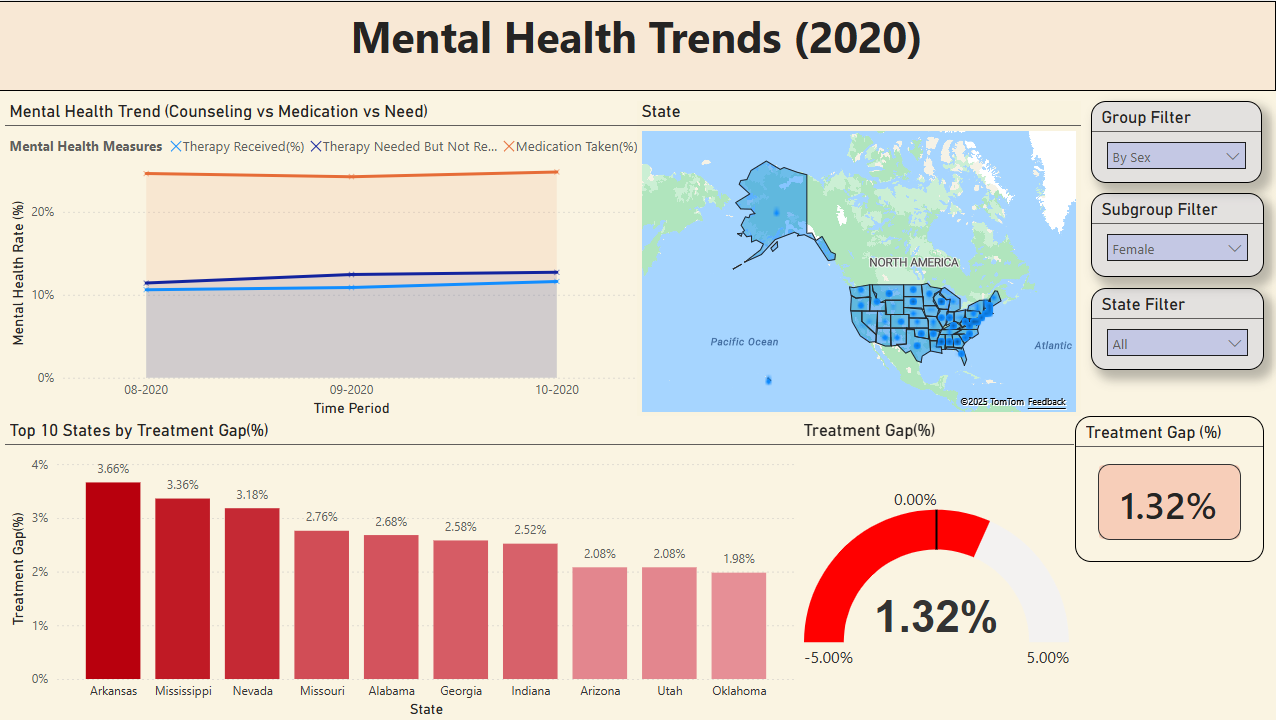

What the dashboard file says about the page in this screenshot:
{"tool":"powerbi","page":{"name":"Page 1","canvas":[1280,720],"ordinal":0},"visuals":[{"type":"lineChart","title":"Mental Health Trend (Counseling vs Medication vs Need)","fields":{"Category":["Calendar.YearMonth"],"Y":["Mental_Health_Care_in_the_Last_4_Weeks.TherapyReceived%","Mental_Health_Care_in_the_Last_4_Weeks.TherapyNeededButNotReceived%","Mental_Health_Care_in_the_Last_4_Weeks.MedicationTaken%"]},"box":[8.1,99.7,639.2,319.6],"z":0},{"type":"slicer","title":"State Filter","fields":{"Values":["Mental_Health_Care_in_the_Last_4_Weeks.State"]},"box":[1094.2,286.9,173.1,82.5],"z":1000},{"type":"slicer","title":"Group Filter","fields":{"Values":["Mental_Health_Care_in_the_Last_4_Weeks.Group"]},"box":[1094.2,99.9,170.7,82.5],"z":2000},{"type":"slicer","title":"Subgroup Filter","fields":{"Values":["Mental_Health_Care_in_the_Last_4_Weeks.Subgroup"]},"box":[1094.2,191.7,173.1,84.8],"z":3000},{"type":"textbox","box":[0,0,1280,89.7],"z":4000},{"type":"azureMap","fields":{"Category":["Mental_Health_Care_in_the_Last_4_Weeks.State"]},"box":[640,99.9,443.7,314.8],"z":5000},{"type":"cardVisual","title":"Treatment Gap (%)","fields":{"Data":["Mental_Health_Care_in_the_Last_4_Weeks.Treatment Gap(%)"]},"box":[1077.9,414.7,189.3,146.4],"z":6000},{"type":"clusteredColumnChart","title":"Top 10 States by Treatment Gap(%)","fields":{"Category":["Mental_Health_Care_in_the_Last_4_Weeks.State"],"Y":["Mental_Health_Care_in_the_Last_4_Weeks.Treatment Gap(%)"]},"box":[8.1,419.3,794.5,300.8],"z":7000},{"type":"gauge","fields":{"Y":["Mental_Health_Care_in_the_Last_4_Weeks.Treatment Gap(%)"]},"box":[802.3,419.3,275.1,285.2],"z":8000}]}

Visuals, with their boxes in screenshot pixels (x1, y1, x2, y2), scaled from the page's 1280x720 canvas onto the 1276x720 screenshot:
"Mental Health Trend (Counseling vs Medication vs Need)" lineChart: [8,100,645,419]
"State Filter" slicer: [1091,287,1263,369]
"Group Filter" slicer: [1091,100,1261,182]
"Subgroup Filter" slicer: [1091,192,1263,276]
textbox: [0,0,1275,90]
azureMap - Mental_Health_Care_in_the_Last_4_Weeks.State: [638,100,1080,415]
"Treatment Gap (%)" cardVisual: [1075,415,1263,561]
"Top 10 States by Treatment Gap(%)" clusteredColumnChart: [8,419,800,719]
gauge - Mental_Health_Care_in_the_Last_4_Weeks.Treatment Gap(%): [800,419,1074,704]
